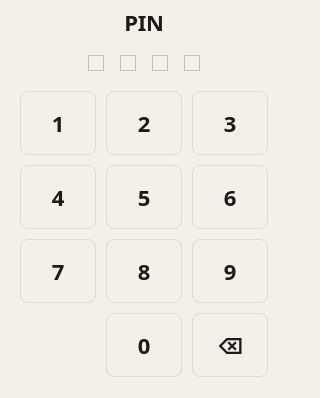
Test: PinPad › supports deleting before the fourth digit
Step 1. Click the button "1" → (58, 123), box [20,91,96,155]
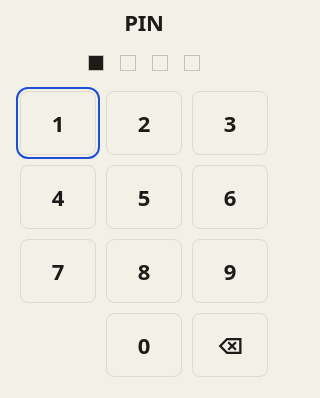
Step 2. Click the button "2" → (144, 123), box [106,91,182,155]
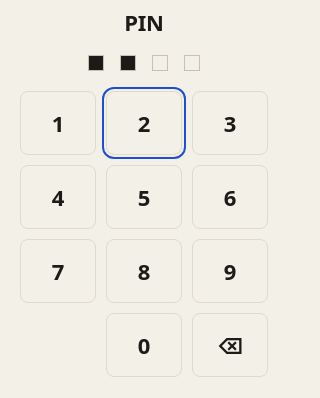
Step 3. Click the button named "Delete digit" → (230, 345), box [192,313,268,377]
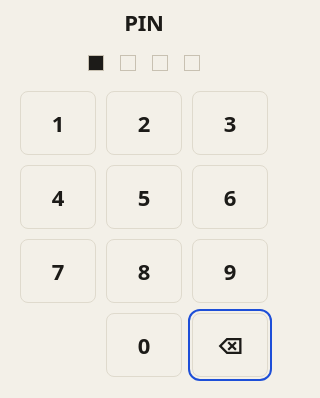
Now the element named "1 of 4 digits entered" is shown, box [88,55,200,71]
